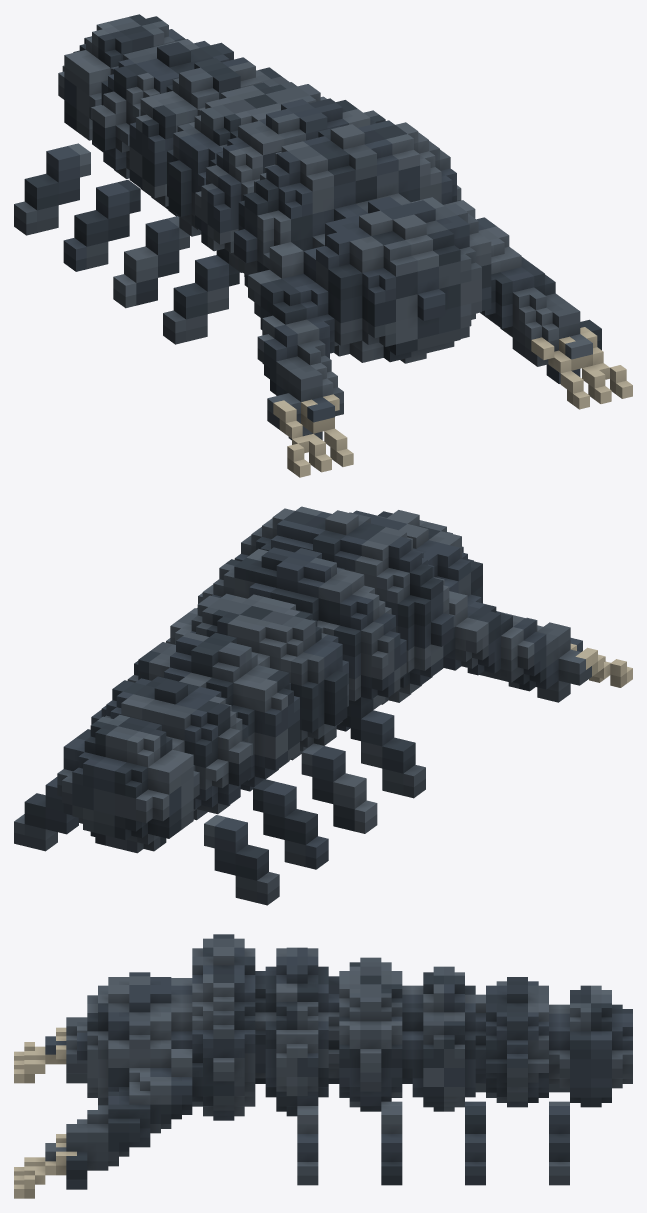
Rendered from u_fouisseur.glb.
The picture shows the model from 3 angles, top to bottom: view 1: azimuth 30°, elevation 25°; view 2: azimuth 150°, elevation 25°; view 3: azimuth 270°, elevation 25°; orthographic projection. The views are drawn at different scales.
Parts seen in each view (by area): view 1: fouisseur_body; view 2: fouisseur_body; view 3: fouisseur_body.
Boxes of the visible parts, box(x1,y1,x2,y2) form: fouisseur_body: box(14, 14, 632, 477); fouisseur_body: box(14, 506, 632, 905); fouisseur_body: box(14, 934, 632, 1198).
Bounding box in the file's own units: 0.775 × 0.475 × 1.48.
